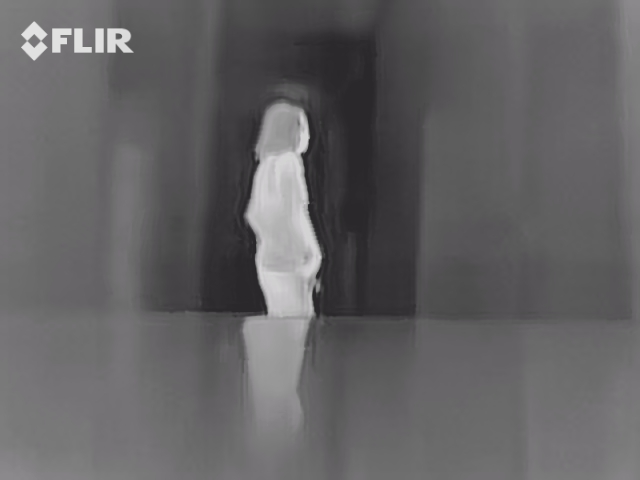head: (263, 102, 311, 153)
